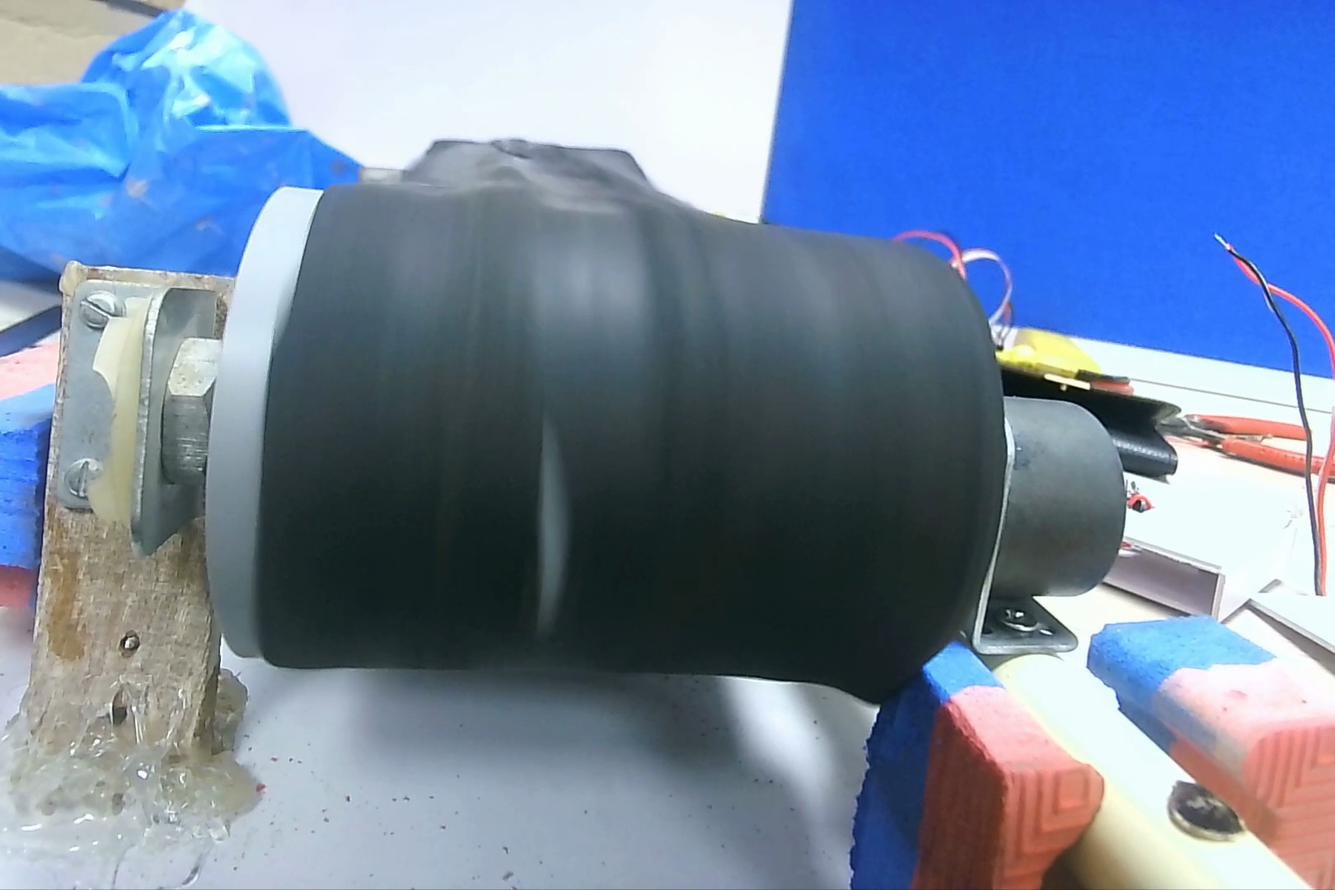tear: (536, 406, 572, 643)
